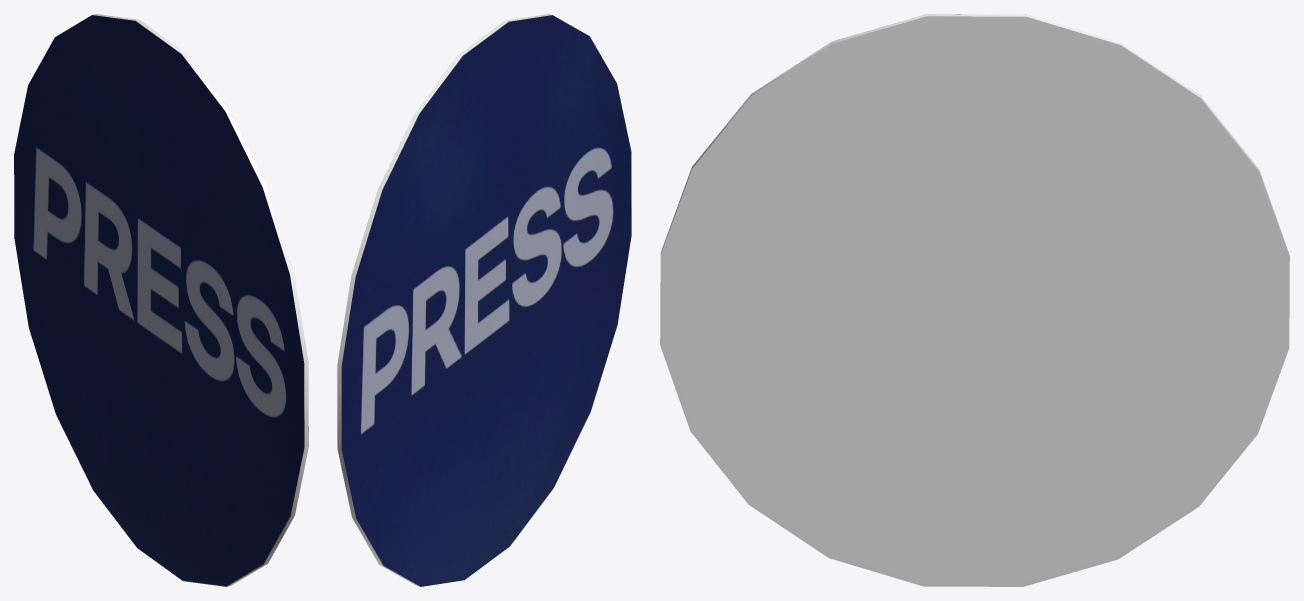
Rendered from SM_020_Seat_12_5.fbx.
3 renders of one model, left to right at view 1: azimuth 30°, elevation 25°; view 2: azimuth 150°, elevation 25°; view 3: azimuth 270°, elevation 25°, orthographic. The views are drawn at different scales.
Visible parts, largest first — view 1: SM_020_Seat_12_5; view 2: SM_020_Seat_12_5; view 3: SM_020_Seat_12_5.
Boxes of the visible parts, x1=… form: SM_020_Seat_12_5: x1=14, y1=14, x2=308, y2=586; SM_020_Seat_12_5: x1=337, y1=14, x2=631, y2=586; SM_020_Seat_12_5: x1=660, y1=14, x2=1289, y2=586.
Size of the model in its own units: 0.3841 by 44.73 by 44.73.
Materials: 1 (1 with a texture image).
